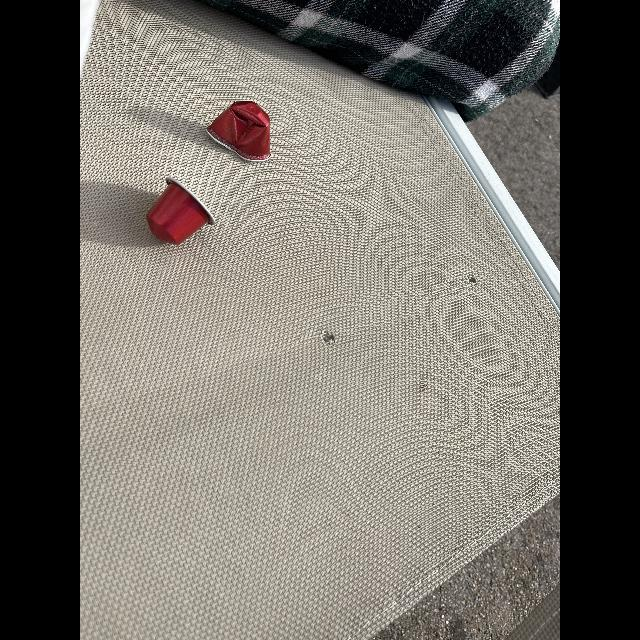damaged_capsule: (202, 100, 280, 164)
intact_capsule: (140, 174, 218, 248)
